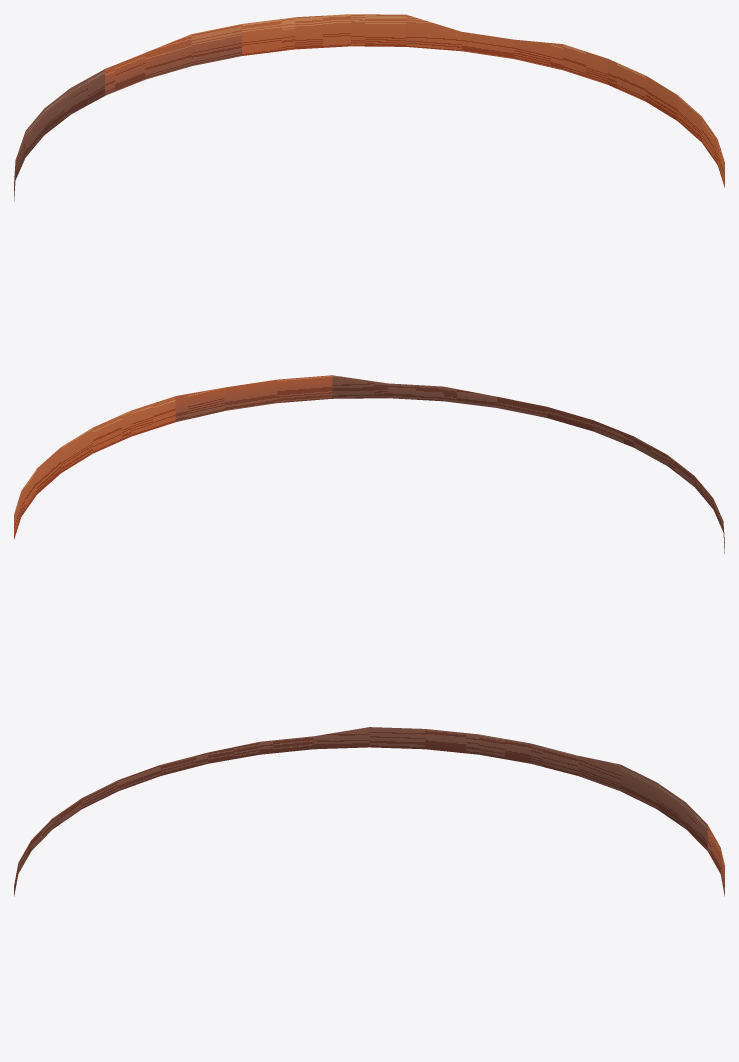
The model's file is wsky.mesas.glb.
The picture shows the model from 3 angles, top to bottom: view 1: azimuth 30°, elevation 25°; view 2: azimuth 150°, elevation 25°; view 3: azimuth 270°, elevation 25°; orthographic projection.
Visible parts, largest first — view 1: kit_shell_mesas; view 2: kit_shell_mesas; view 3: kit_shell_mesas.
Boxes of the visible parts, box(x1,y1,x2,y2) form: kit_shell_mesas: box(14, 14, 724, 201); kit_shell_mesas: box(14, 375, 724, 553); kit_shell_mesas: box(14, 727, 724, 896).
Size of the model in its own units: 320 by 15.96 by 320.
Materials: 1 (1 with a texture image).
